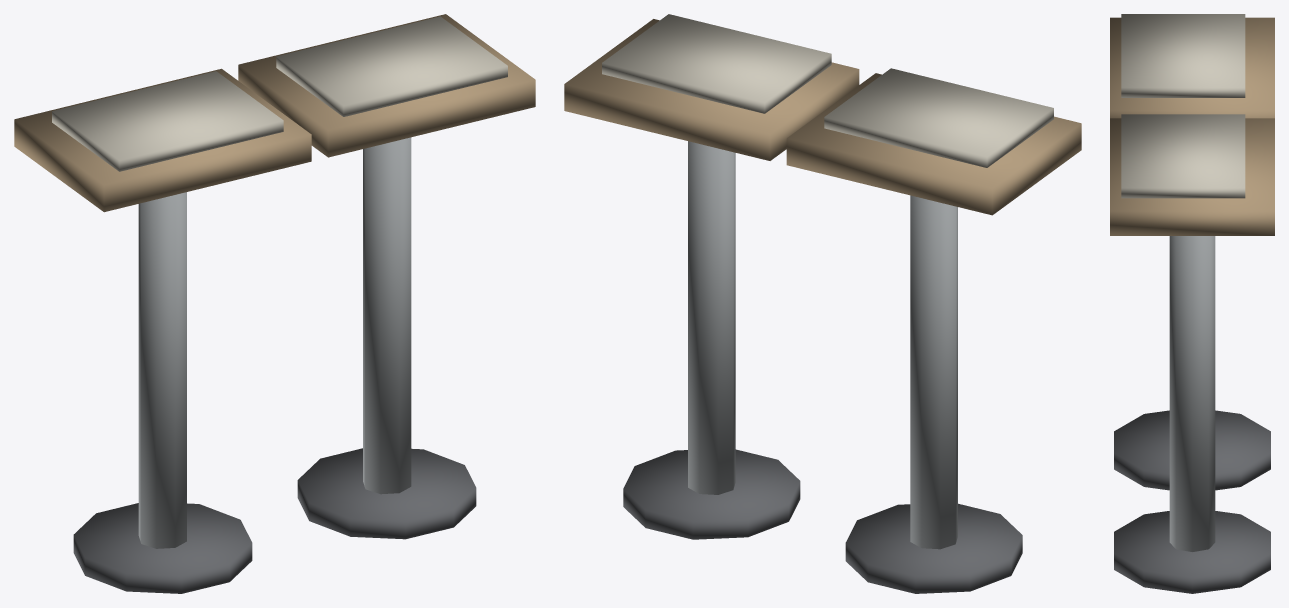
The model's file is memorial_guestbook_stand__cluster.glb.
The picture shows the model from 3 angles, left to right: view 1: azimuth 30°, elevation 25°; view 2: azimuth 150°, elevation 25°; view 3: azimuth 270°, elevation 25°; orthographic projection. The views are drawn at different scales.
Visible parts, largest first — view 1: world; view 2: world; view 3: world.
Part boxes in pixels (x1=…): world: x1=14, y1=14, x2=535, y2=593; world: x1=564, y1=14, x2=1081, y2=593; world: x1=1110, y1=14, x2=1274, y2=593.
Size of the model in its own units: 0.9984 by 0.9825 by 0.36.
